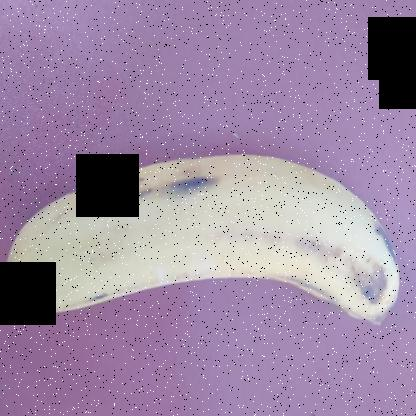ripe: (0, 139, 404, 356)
